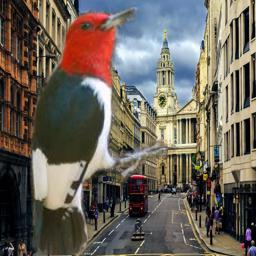Woodpecker: (29, 7, 168, 255)
